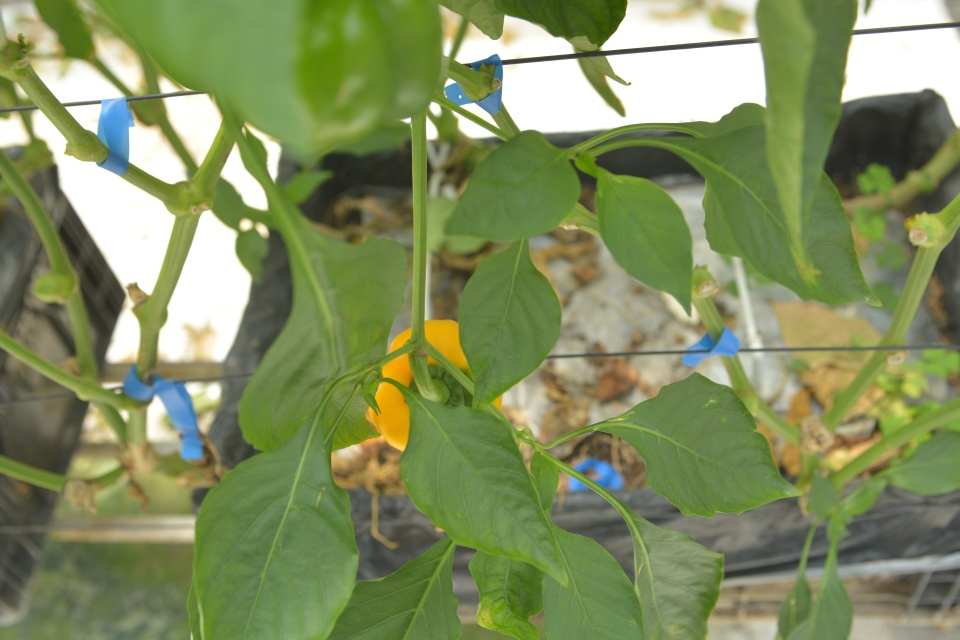fruit: (364, 316, 505, 455)
pedicle: (409, 362, 465, 407)
